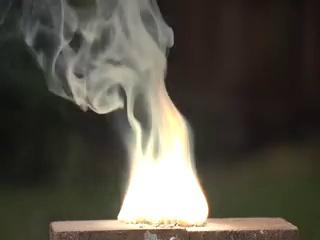Fire: (117, 92, 210, 225)
